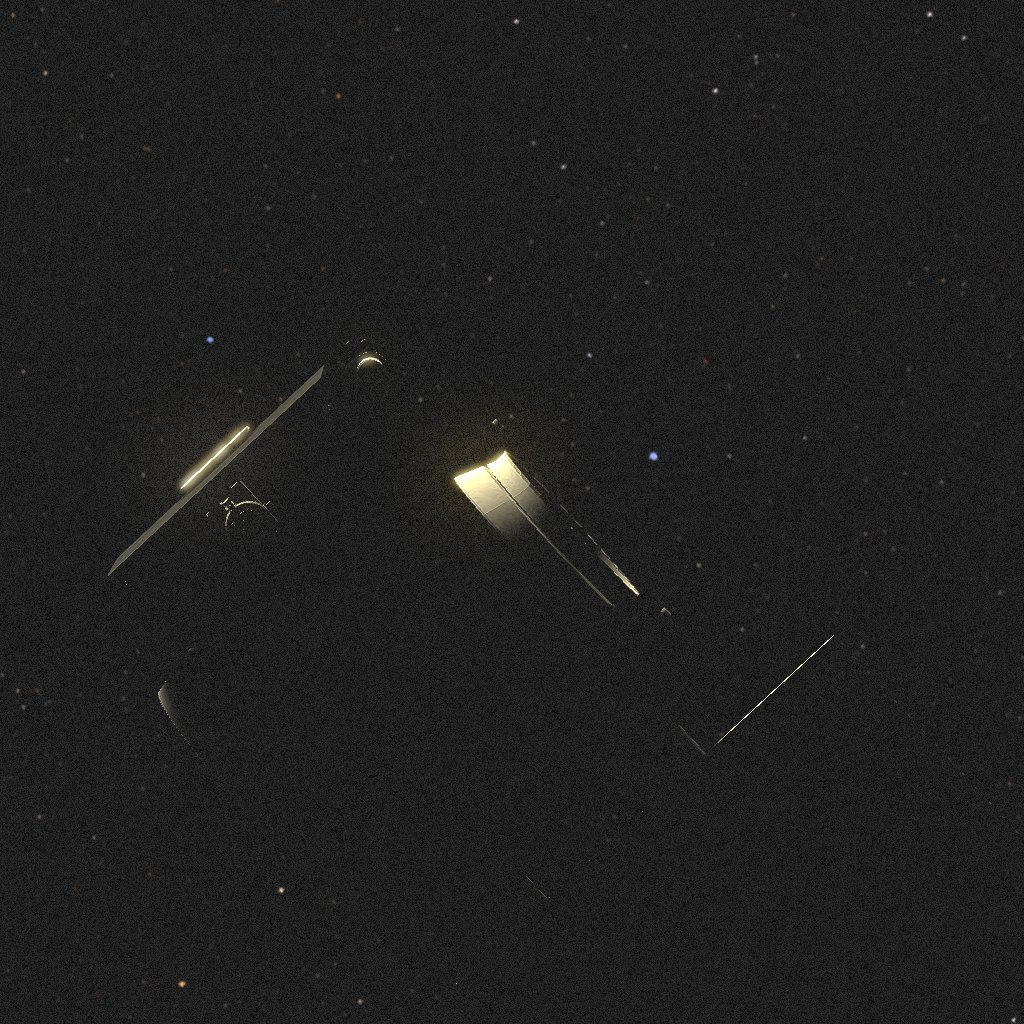proba_3_csc: (85, 334, 825, 944)
